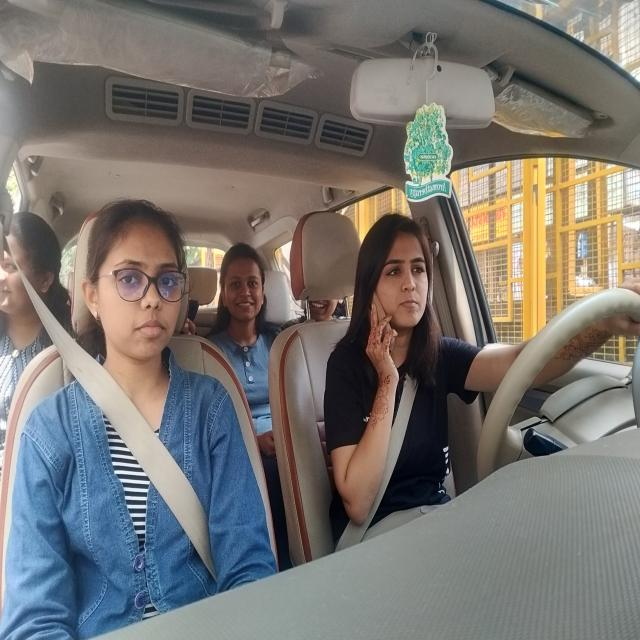mobile: (367, 291, 398, 352)
person: (80, 201, 188, 359), (368, 211, 435, 334), (0, 211, 65, 332), (220, 240, 267, 323), (307, 296, 344, 322)
